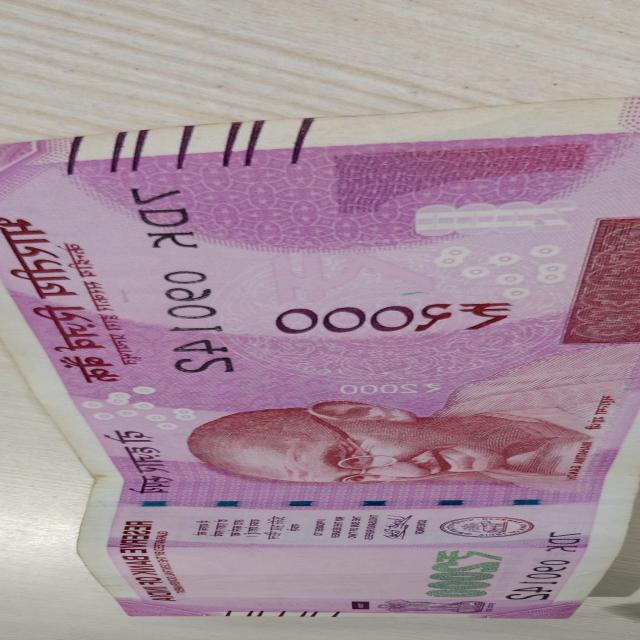Currency: (0, 138, 640, 621)
